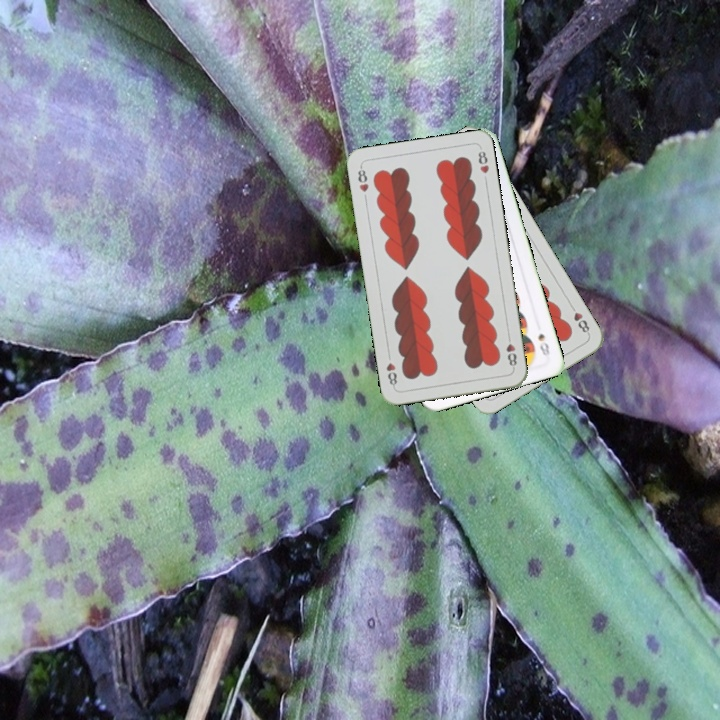H8: (566, 301, 592, 337), (502, 331, 519, 371), (354, 162, 371, 195)
S8: (534, 329, 553, 361)
